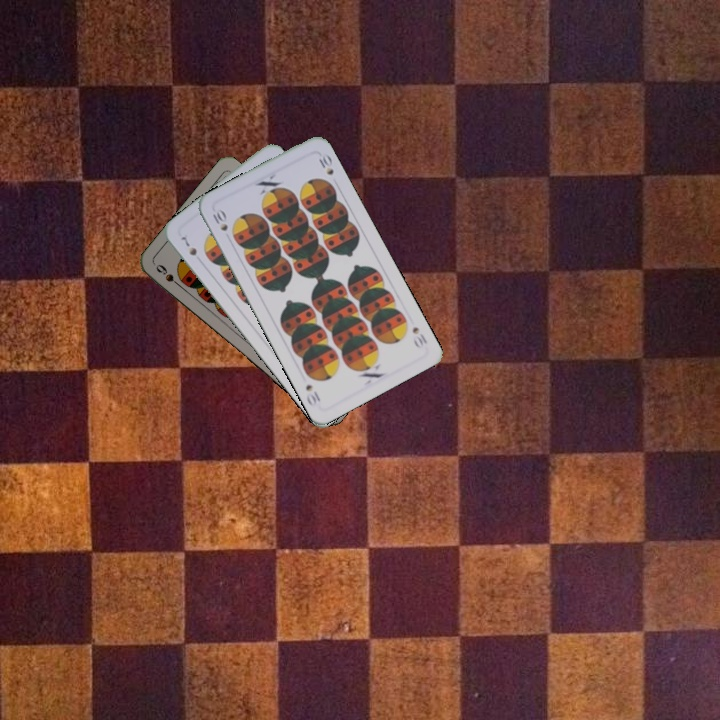S10: (408, 323, 430, 351), (208, 207, 230, 234)
S7: (177, 232, 200, 258)
S9: (152, 260, 186, 291)
